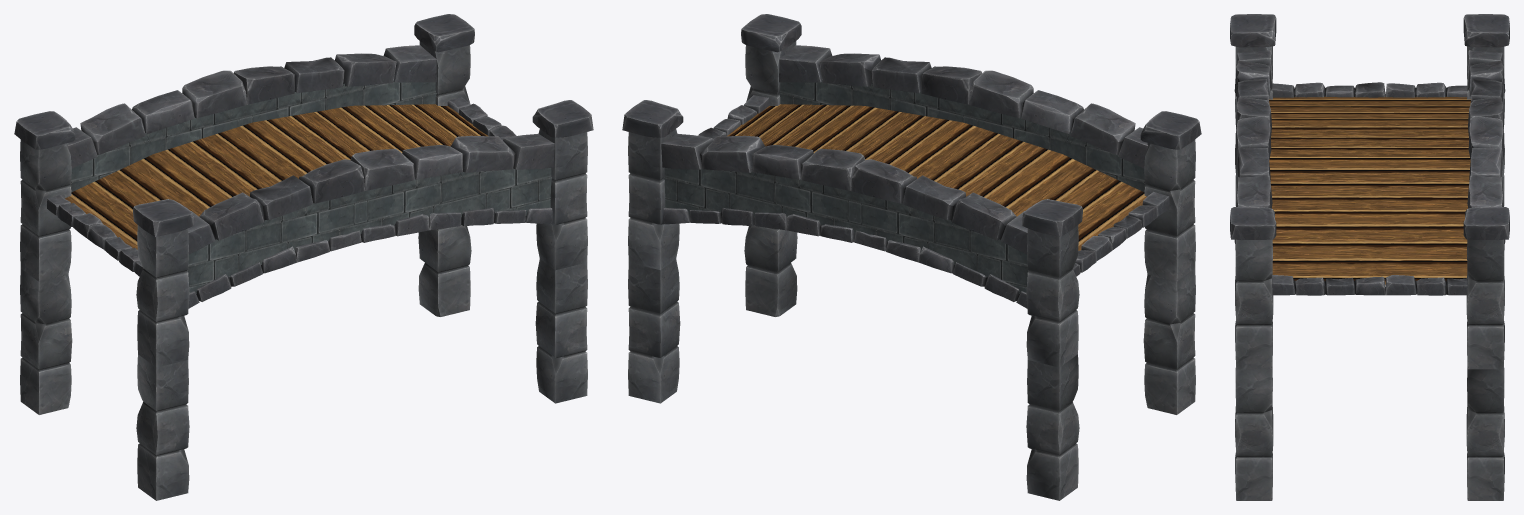
The model's file is StoneBridge01.FBX.
The picture shows the model from 3 angles, left to right: view 1: azimuth 30°, elevation 25°; view 2: azimuth 150°, elevation 25°; view 3: azimuth 270°, elevation 25°; orthographic projection.
Parts seen in each view (by area): view 1: StoneBridge01; view 2: StoneBridge01; view 3: StoneBridge01.
Boxes of the visible parts, x1=… form: StoneBridge01: x1=14, y1=14, x2=593, y2=500; StoneBridge01: x1=622, y1=14, x2=1201, y2=500; StoneBridge01: x1=1230, y1=14, x2=1509, y2=500.
Size of the model in its own units: 15.84 by 8.84 by 9.72.
